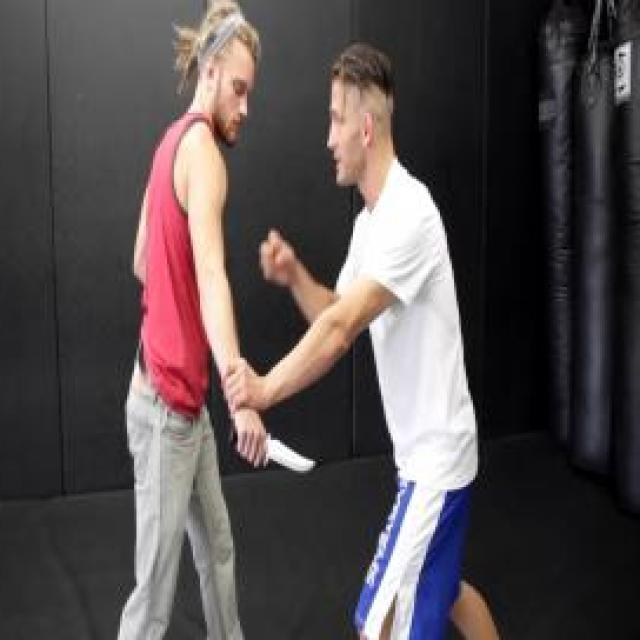knife: (223, 421, 319, 487)
